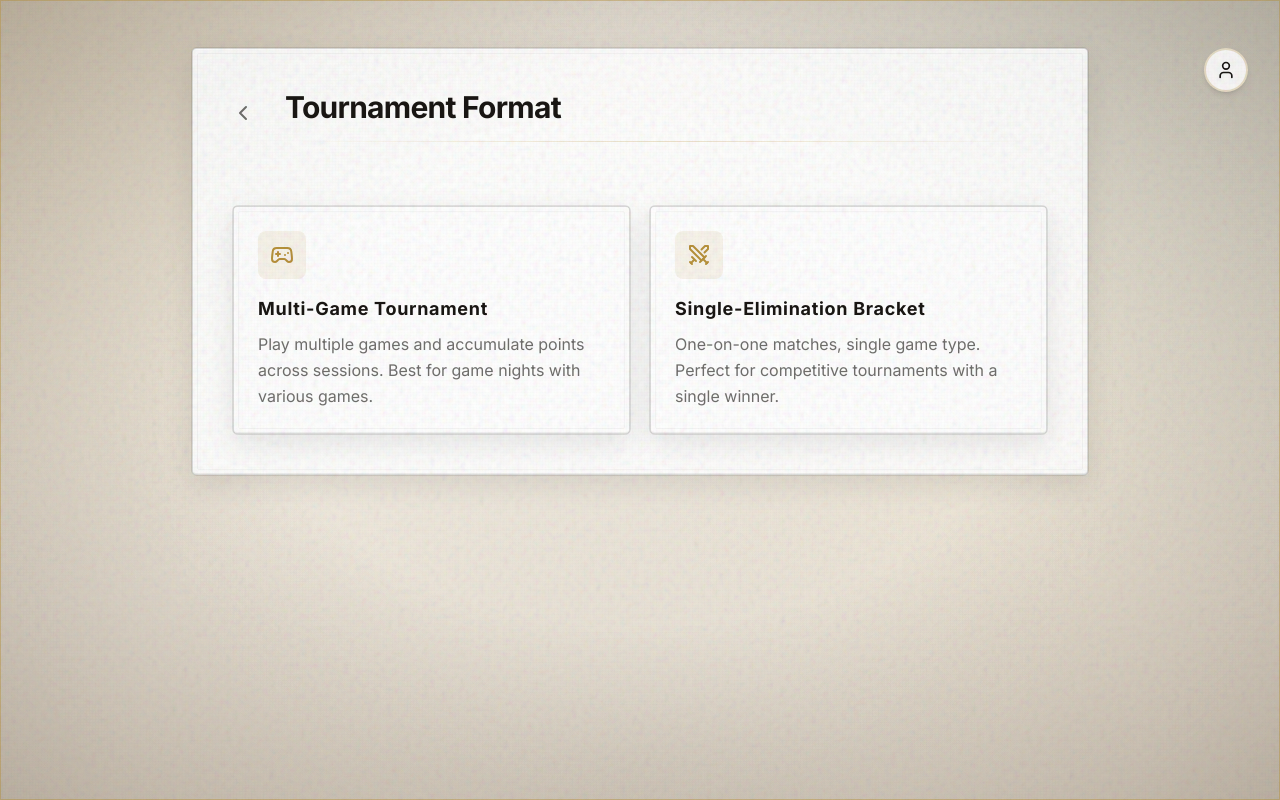
Scenario: NewTournament › navigates to step 2 when format is selected
The width and height of the screenshot is (1280, 800).
Click the button "Multi-Game Tournament". click: (432, 320)
box: [233, 206, 630, 434]
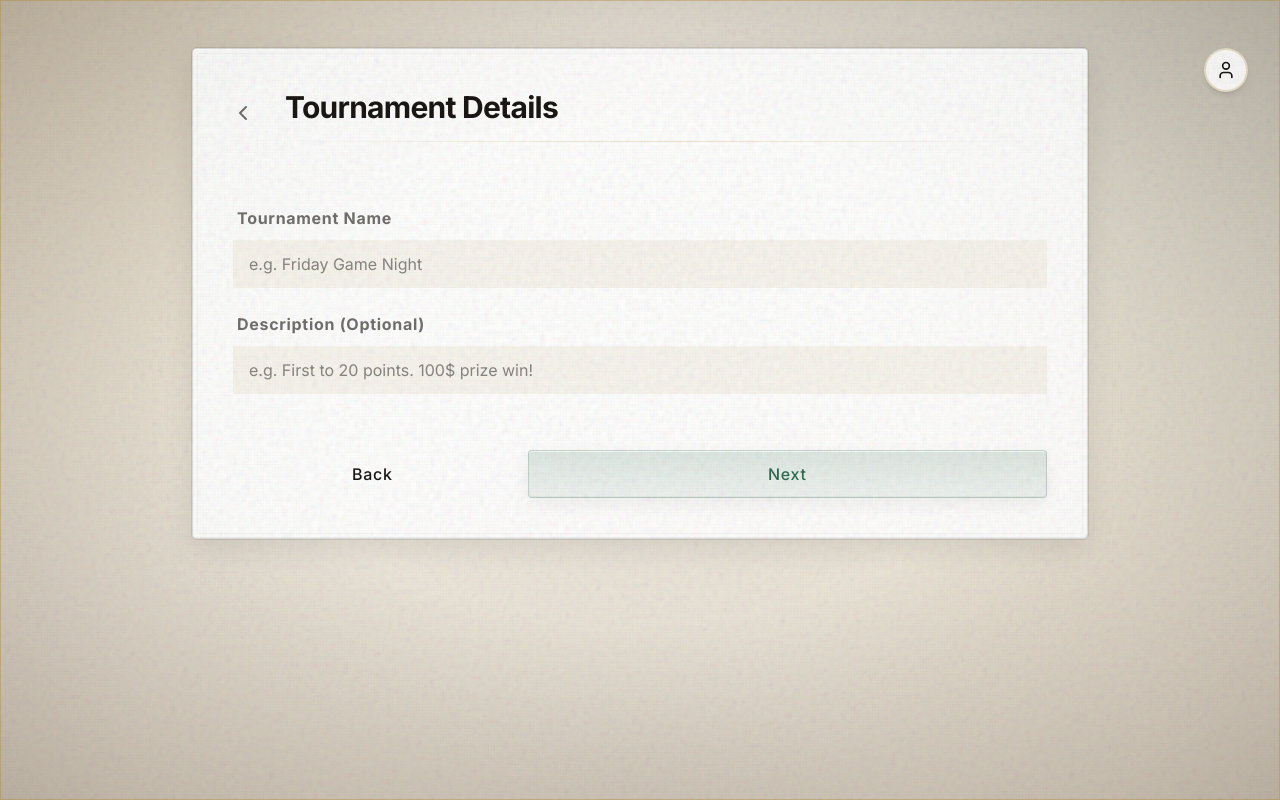
Expected: the heading "Tournament Details" is shown, [285, 89, 558, 125]
Expected: the field labelled "Tournament Name" is shown, [233, 240, 1047, 288]
